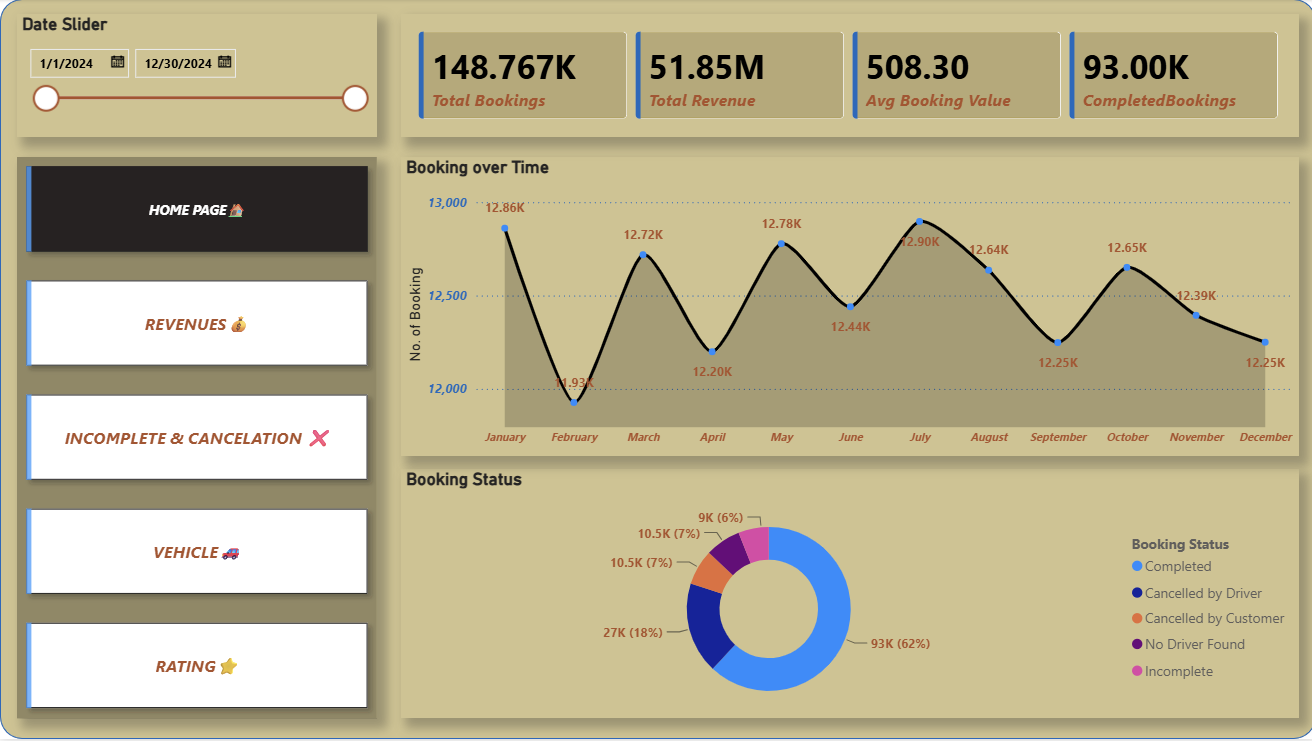

The dashboard page shown, as its layout file describes it:
{"tool":"powerbi","page":{"name":"HOME PAGE🏠 ","canvas":[1280,720],"ordinal":0},"visuals":[{"type":"shape","box":[0,0,1280,719.8],"z":0},{"type":"lineChart","title":"Booking over Time","fields":{"Y":["CountNonNull(ncr_ride_bookings.Booking ID)"],"Category":["ncr_ride_bookings.Date.Variation.Date Hierarchy.Year","ncr_ride_bookings.Date.Variation.Date Hierarchy.Quarter","ncr_ride_bookings.Date.Variation.Date Hierarchy.Month","ncr_ride_bookings.Date.Variation.Date Hierarchy.Day"]},"box":[390,153.7,873.4,290.8],"z":1000},{"type":"slicer","title":"Date Slider","fields":{"Values":["ncr_ride_bookings.Date"]},"box":[16.5,14.6,350.2,119.6],"z":2000},{"type":"donutChart","title":"Booking Status","fields":{"Category":["ncr_ride_bookings.Booking Status"],"Y":["CountNonNull(ncr_ride_bookings.Booking ID)"]},"box":[390,457.1,873.4,242.2],"z":3000},{"type":"pageNavigator","title":"REVENUE","box":[16.5,153.7,350.2,545.7],"z":4000},{"type":"cardVisual","fields":{"Data":["Count(ncr_ride_bookings.Booking ID)","Sum(ncr_ride_bookings.Booking Value)","Avg(ncr_ride_bookings.Booking Value)","ncr_ride_bookings.CompletedBookings"]},"box":[389.7,15,873.3,119.9],"z":5000}]}

Visuals, with their boxes in screenshot pixels (x1, y1, x2, y2), scaled from the page's 1280x720 canvas onto the 1312x741 screenshot:
shape: region(0, 0, 1311, 740)
"Booking over Time" lineChart: region(400, 158, 1295, 457)
"Date Slider" slicer: region(17, 15, 376, 138)
"Booking Status" donutChart: region(400, 470, 1295, 720)
"REVENUE" pageNavigator: region(17, 158, 376, 720)
cardVisual - Count(ncr_ride_bookings.Booking ID) x Sum(ncr_ride_bookings.Booking Value): region(399, 15, 1295, 139)
